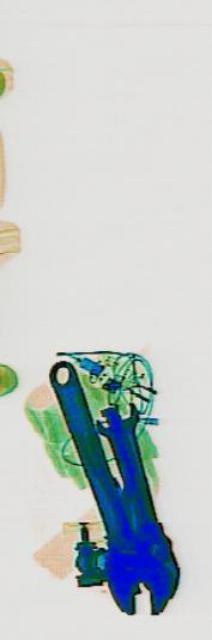Wrench: (41, 322, 159, 638), (92, 357, 181, 635)
